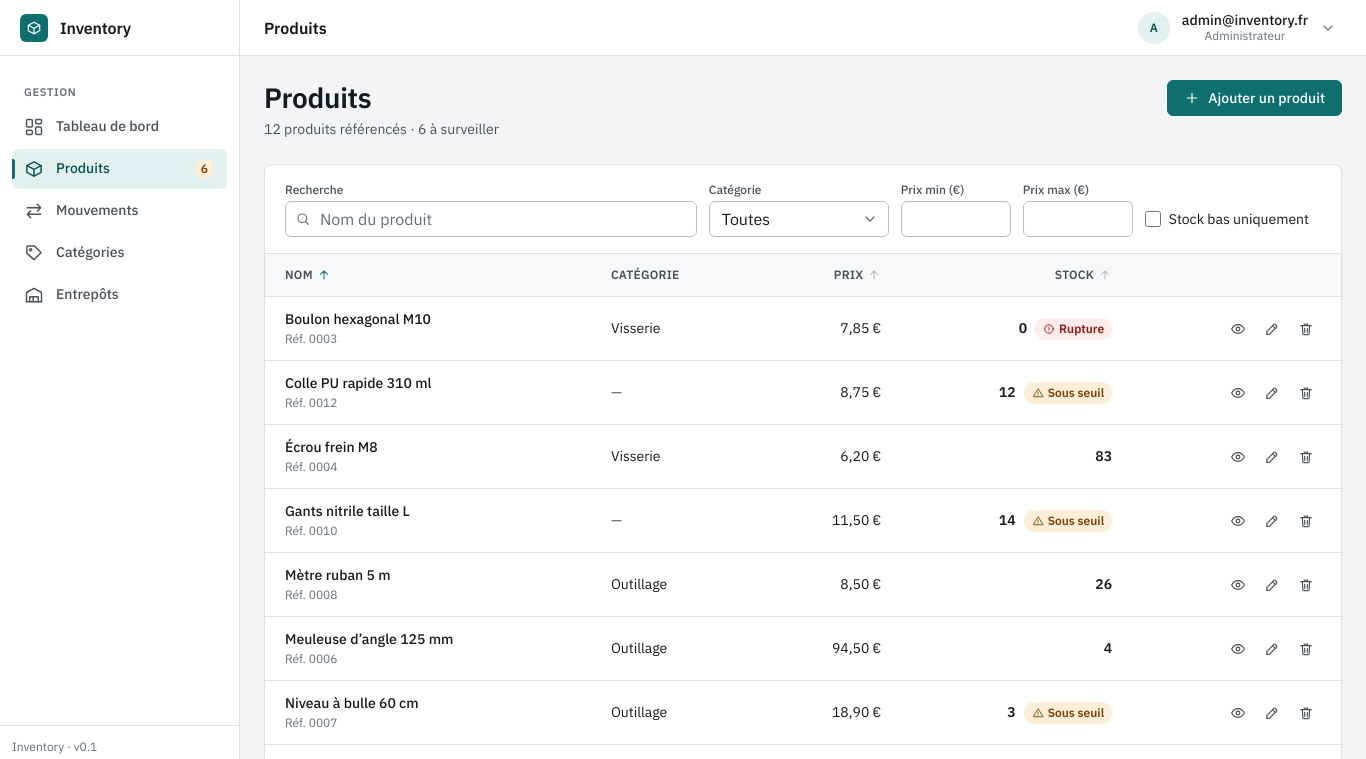
useProductDelete › a product with movements › only closes the explanation when it is cancelled
The image size is (1366, 759).
Click the button named "Supprimer Écrou frein M8".
click(1306, 456)  # box [1291, 442, 1321, 472]
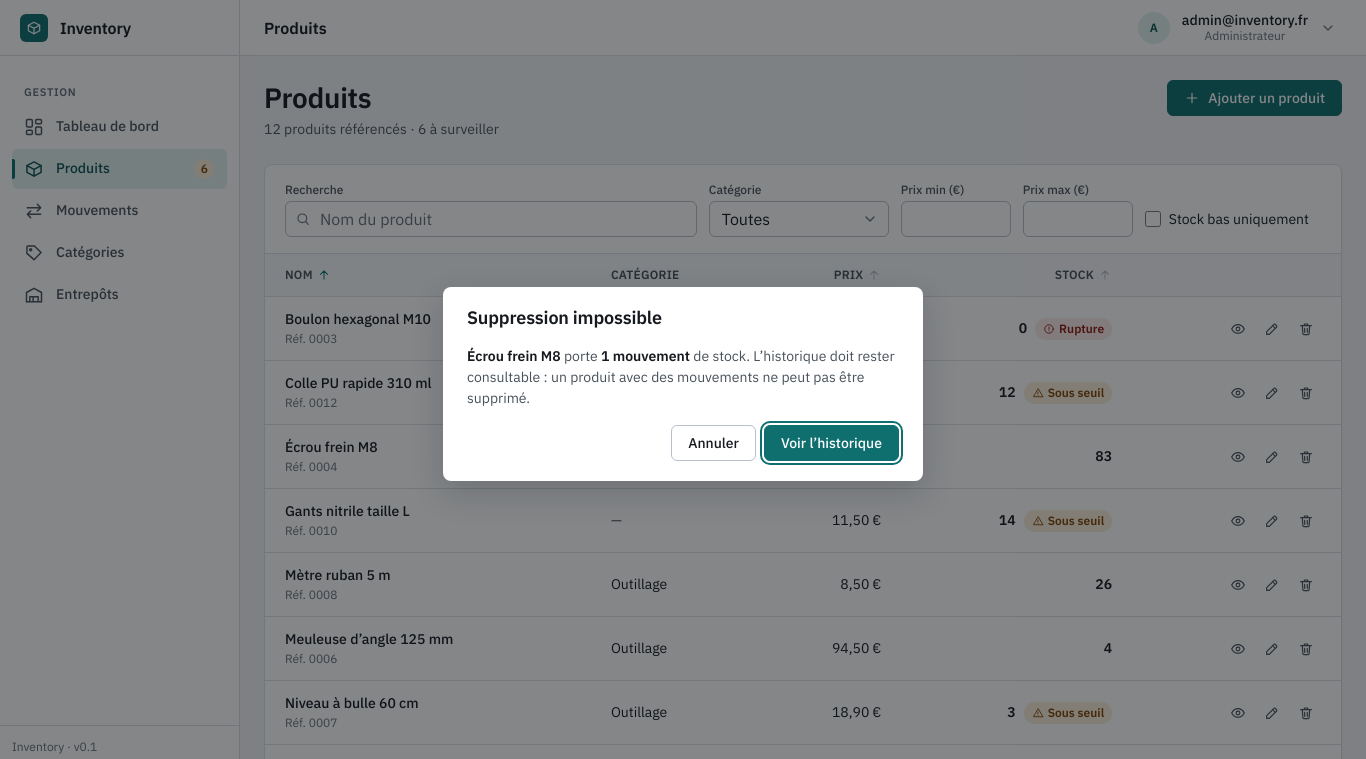
Expected: the dialog "Suppression impossible" shows "Écrou frein M8 porte 1 mouvement de stock.", [443, 287, 923, 481]
Click the button "Annuler".
click(714, 443)  # box [671, 425, 756, 461]
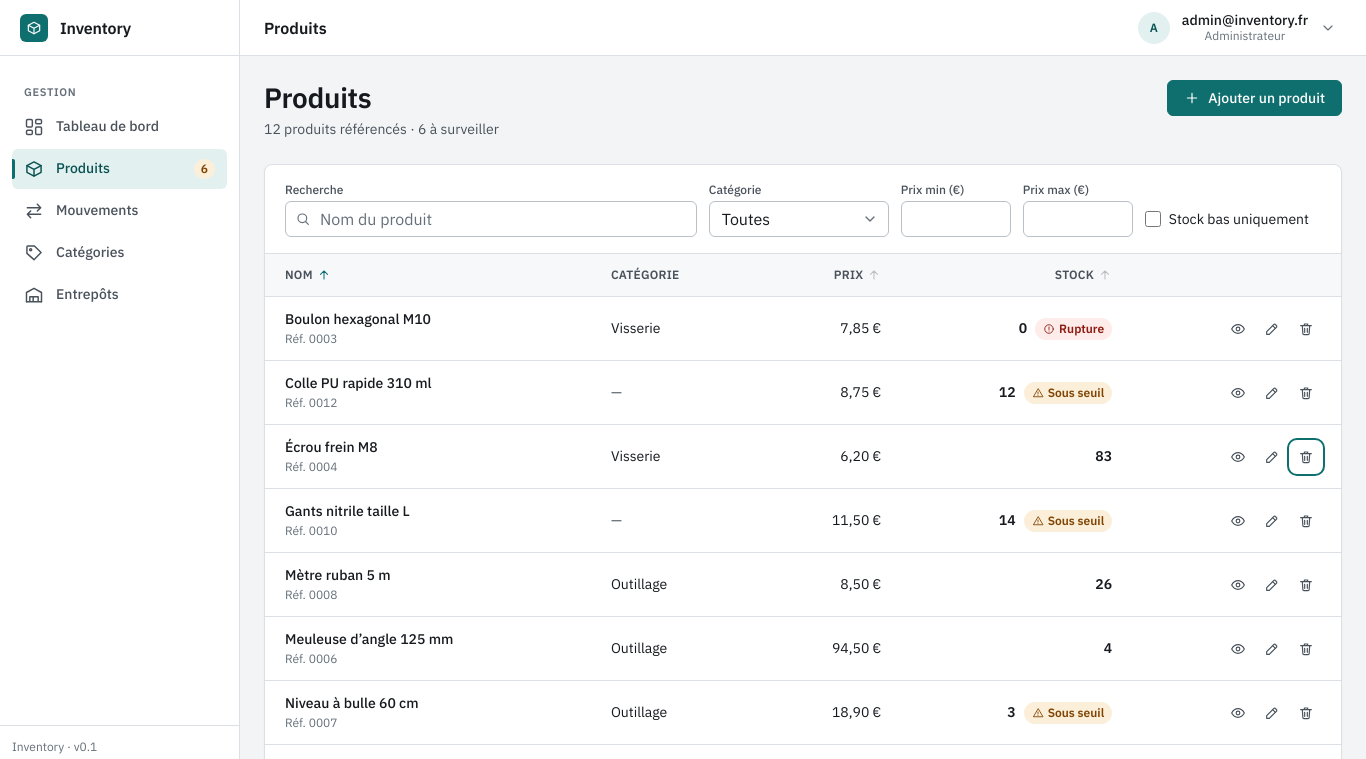
Expected: the dialog is gone
